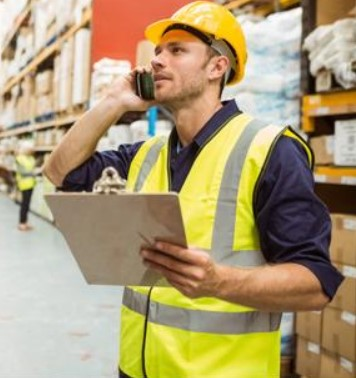worker: (119, 2, 283, 377)
